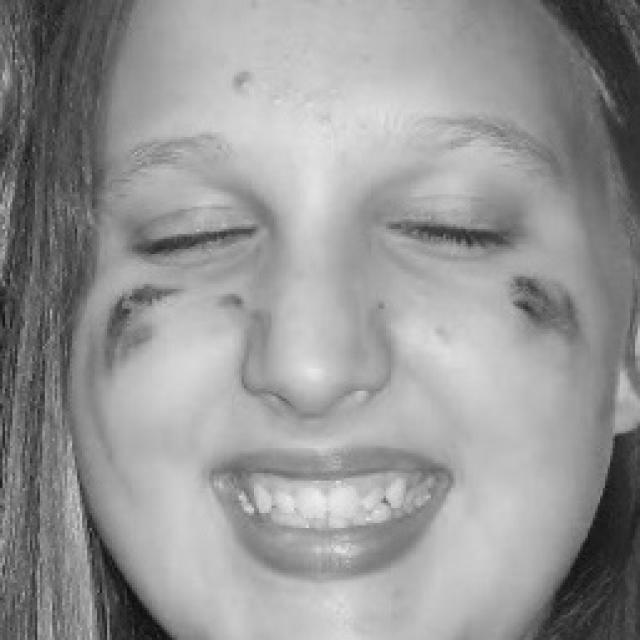real: (60, 6, 614, 628), (139, 160, 534, 298)
